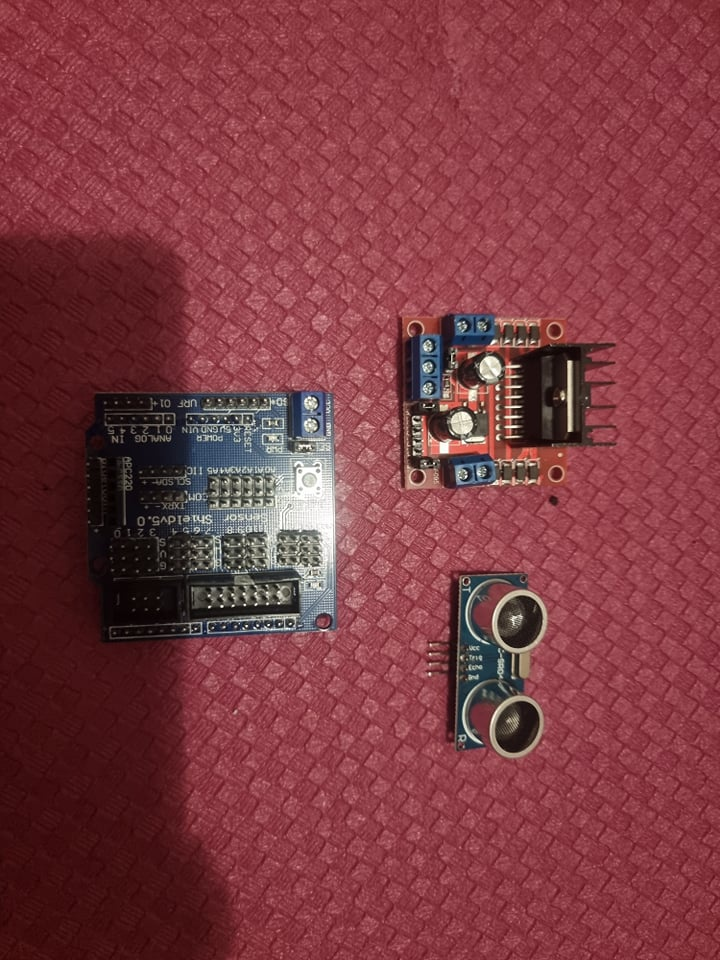5V EXPANSION: (86, 386, 343, 641)
MOTOR: (397, 307, 616, 496)
SENSOR: (455, 576, 543, 756)
